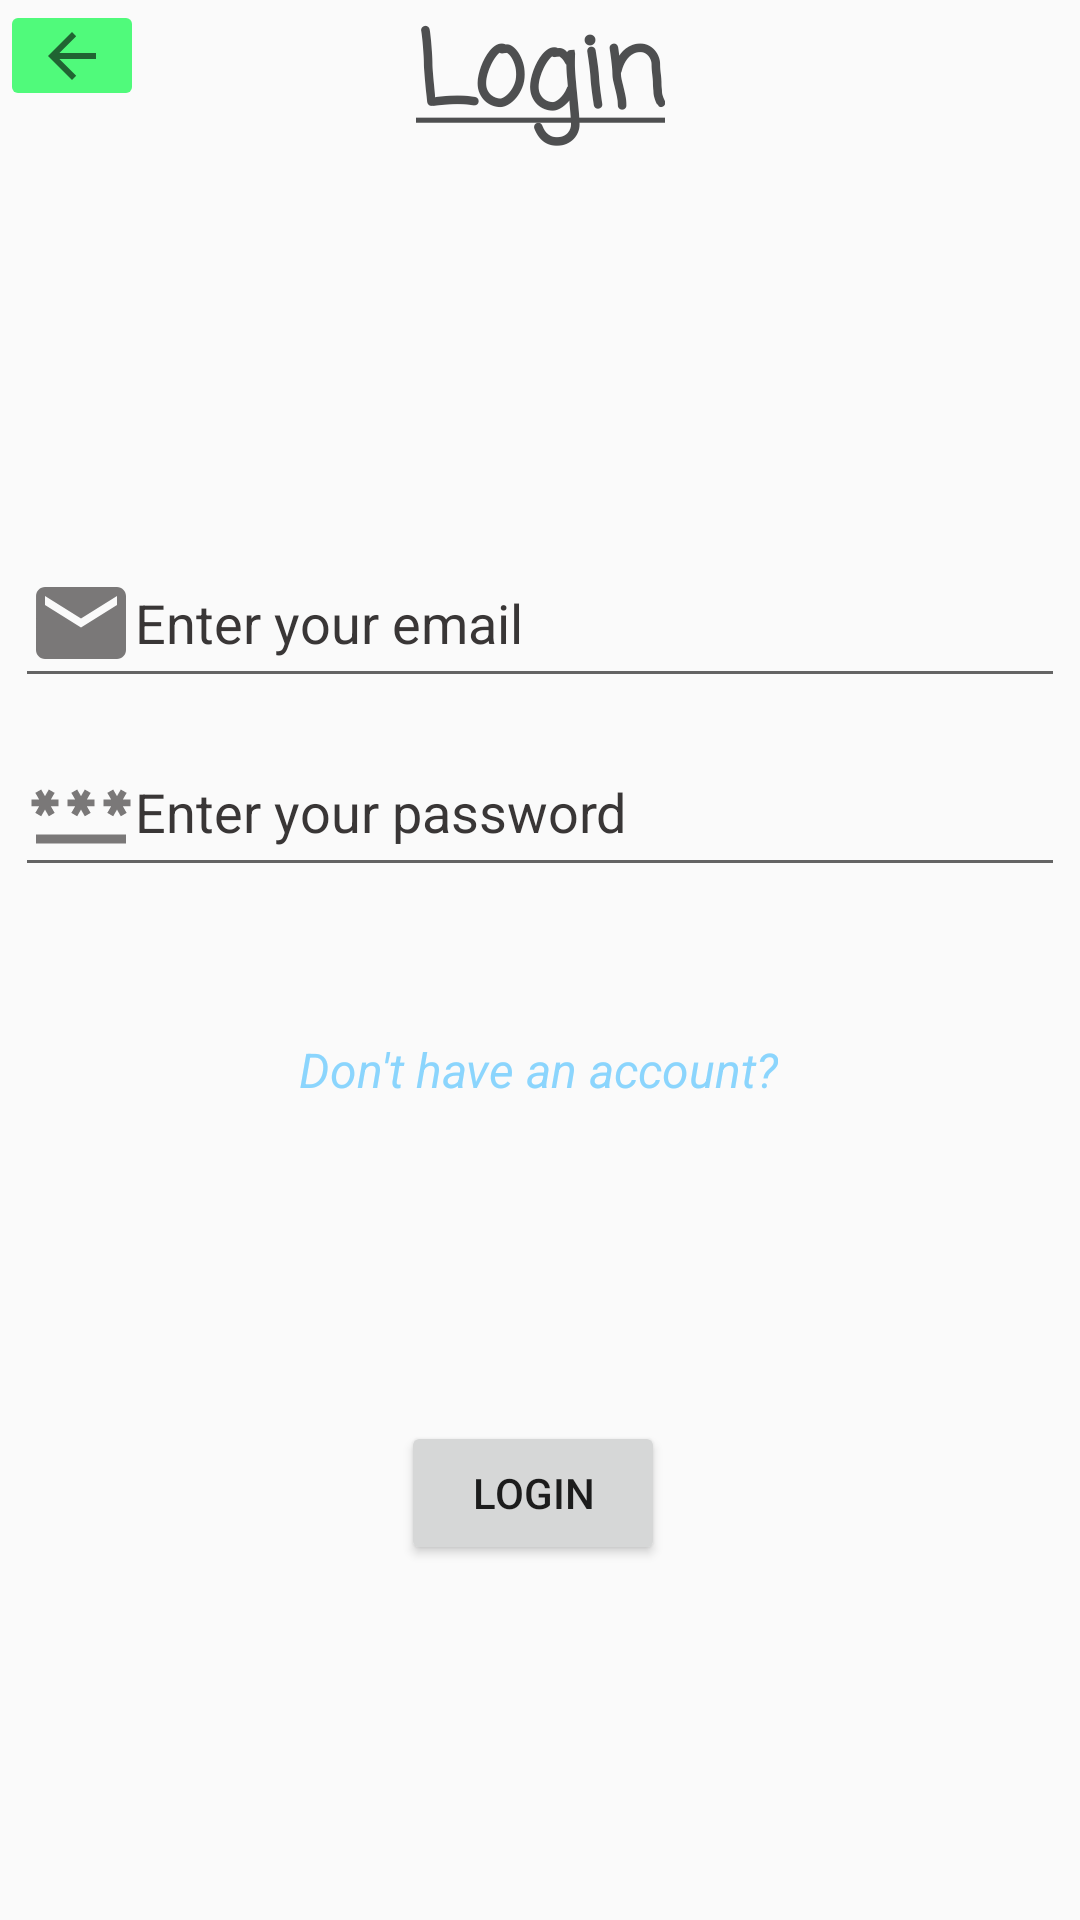

Named icons in this screenshot (1080x1920) and their centers, (x=x, y=y):
Back button: (x=72, y=55)
